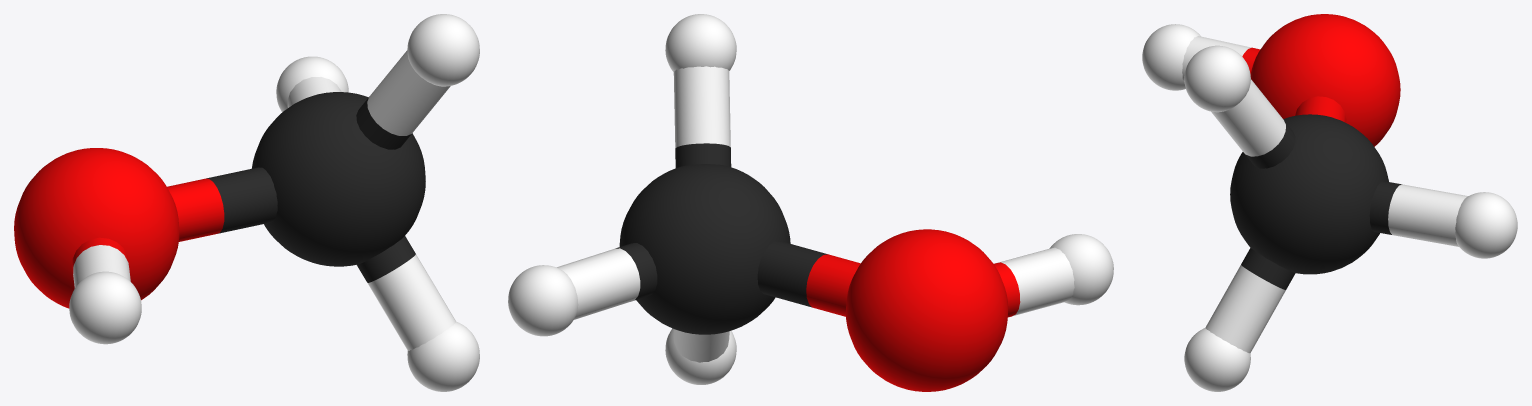
The model's file is metanol.obj.
3 views of the same model, side by side, from view 1: azimuth 30°, elevation 25°; view 2: azimuth 150°, elevation 25°; view 3: azimuth 270°, elevation 25° (orthographic). The views are drawn at different scales.
Visible parts, largest first — view 1: metanol; view 2: metanol; view 3: metanol.
Boxes of the visible parts, <box> form: metanol: <box>14,14,479,391</box>; metanol: <box>508,14,1113,391</box>; metanol: <box>1142,14,1517,391</box>.
Bounding box in the file's own units: 2.68 × 2.16 × 2.17.
